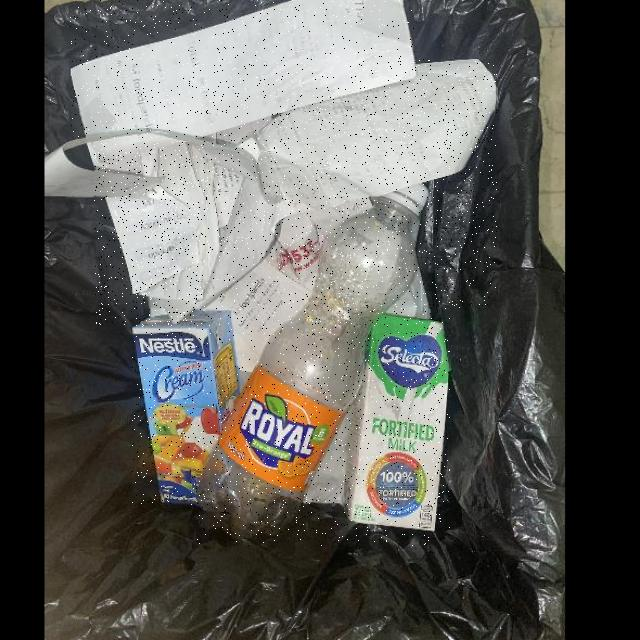paper: (195, 60, 497, 309), (70, 0, 416, 138), (347, 314, 450, 533), (132, 310, 241, 506), (94, 143, 208, 325), (203, 261, 312, 373)
plastic: (197, 185, 429, 546)
